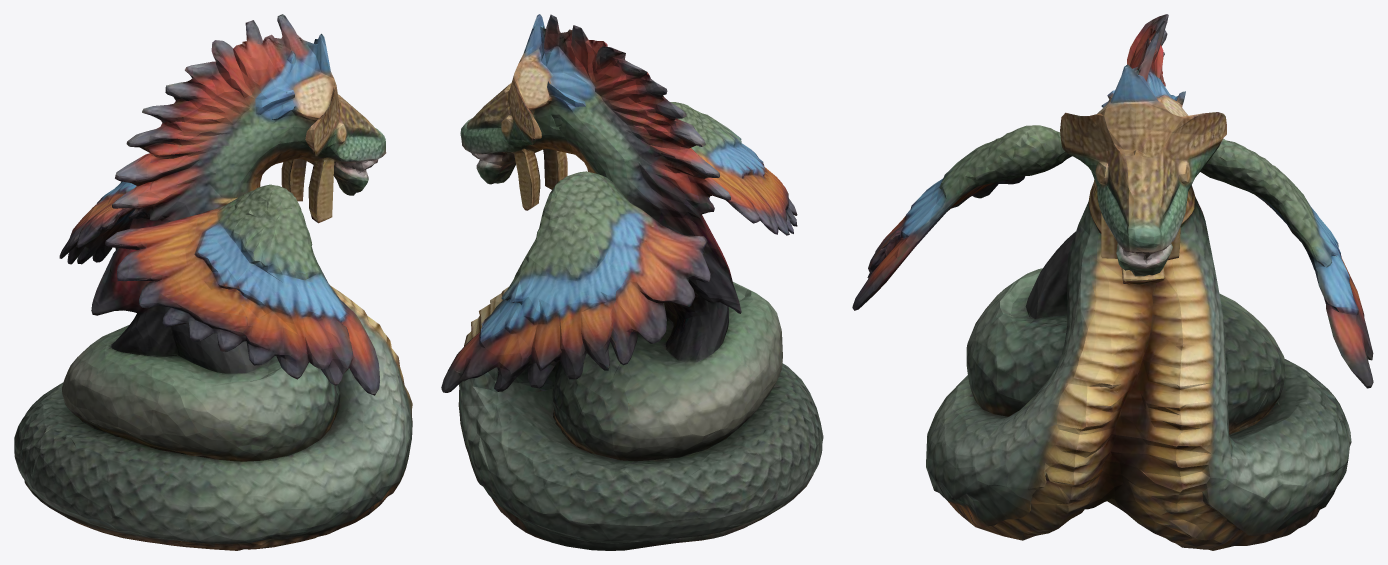
File: plumedCoil.glb
3 views of the same model, side by side, from view 1: azimuth 30°, elevation 25°; view 2: azimuth 150°, elevation 25°; view 3: azimuth 270°, elevation 25° (orthographic). The views are drawn at different scales.
Parts seen in each view (by area): view 1: world; view 2: world; view 3: world.
Part boxes in pixels (x1,y1,x2,y2): world: [14, 14, 412, 550]; world: [441, 14, 823, 550]; world: [852, 14, 1373, 550].
Size of the model in its own units: 0.6656 by 0.8682 by 0.7984.
Materials: 1 (1 with a texture image).
